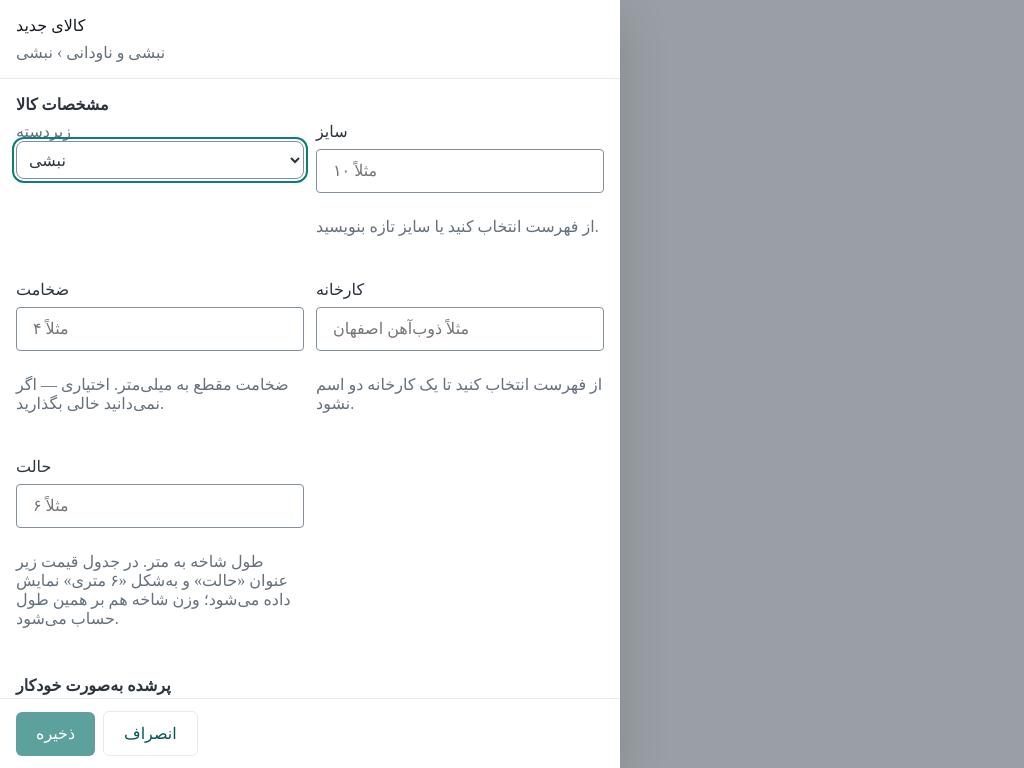
it: SkuDrawer — نبشی و ناودانی collects «حالت» in place of «گرید» › swaps live when the operator re-files the product into وال پست
Check: the field labelled "حالت" is shown, box [16,484,304,528]
Select "وال پست" in the dropdown labelled "زیر‌دسته" at (160, 160), box [16,141,304,179]
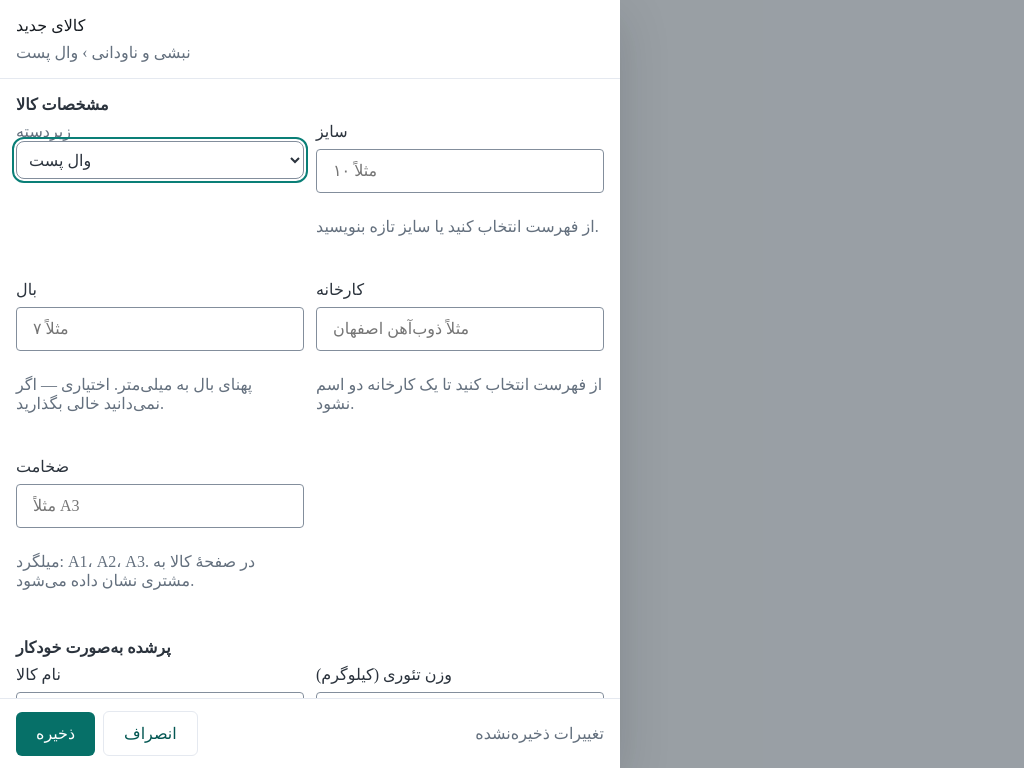
Check: the field labelled "ضخامت" is shown, box [16,484,304,528]
Check: the label labelled "حالت" is gone
